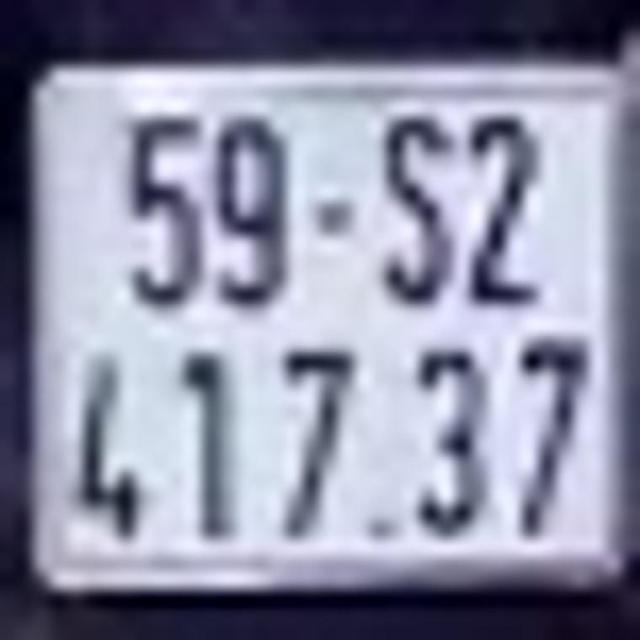1: (178, 346, 238, 541)
2: (467, 110, 548, 307)
3: (412, 341, 488, 539)
4: (74, 351, 147, 543)
5: (127, 109, 206, 310)
7: (511, 334, 594, 541), (274, 342, 357, 542)
9: (213, 112, 290, 311)
S: (380, 108, 456, 306)
